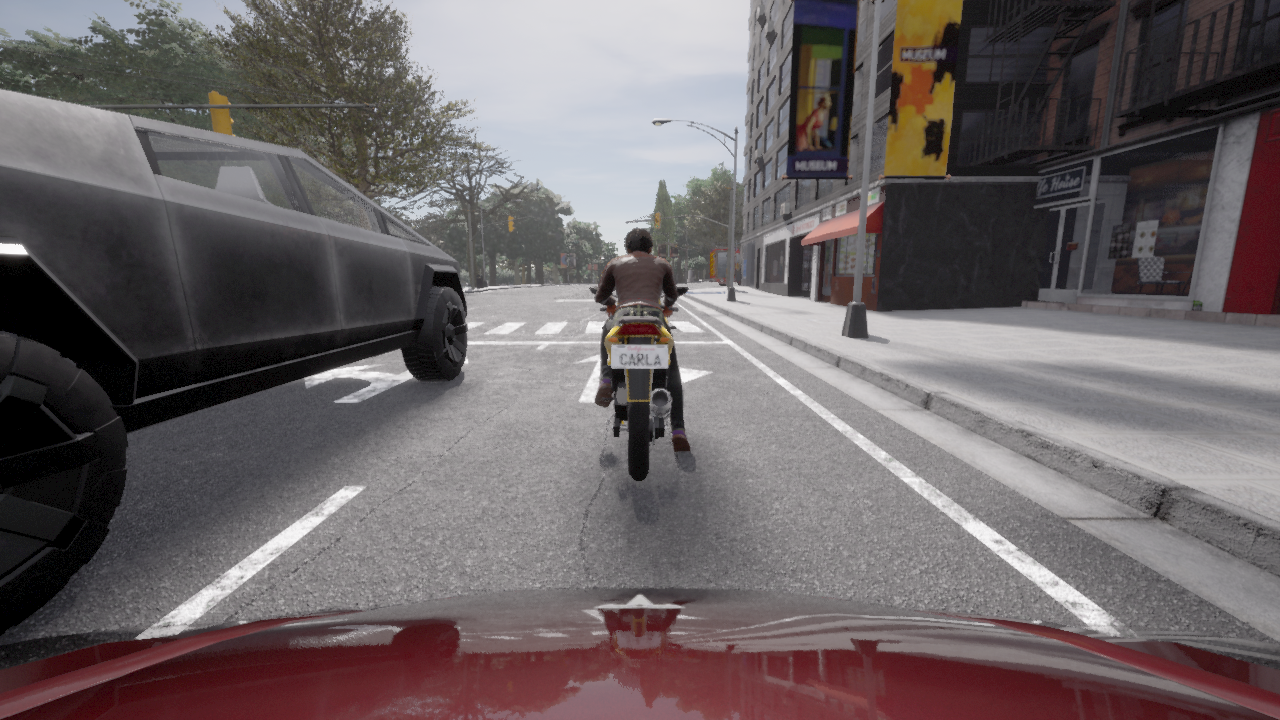cyclist: (0, 588, 1279, 719), (590, 287, 687, 481), (709, 242, 740, 285)
